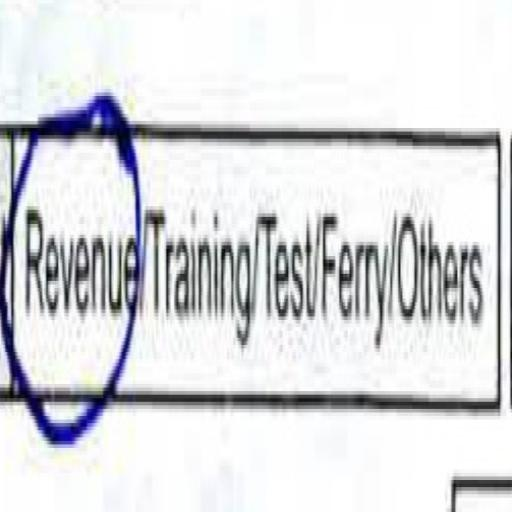check: (11, 70, 143, 465)
